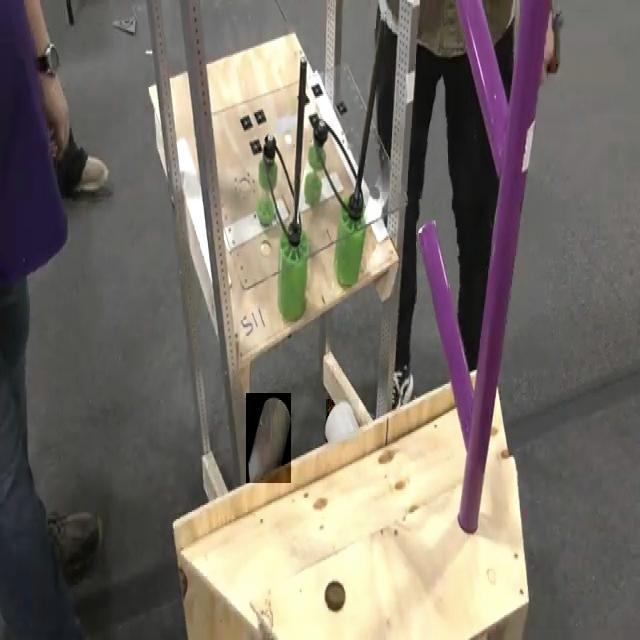Coral: (246, 393, 291, 483), (326, 399, 359, 444)
